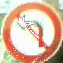Don't turn left: (4, 3, 62, 62)
